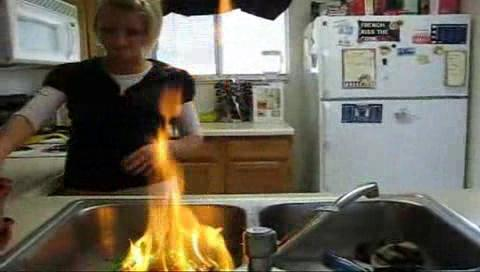fire: (135, 92, 228, 271)
